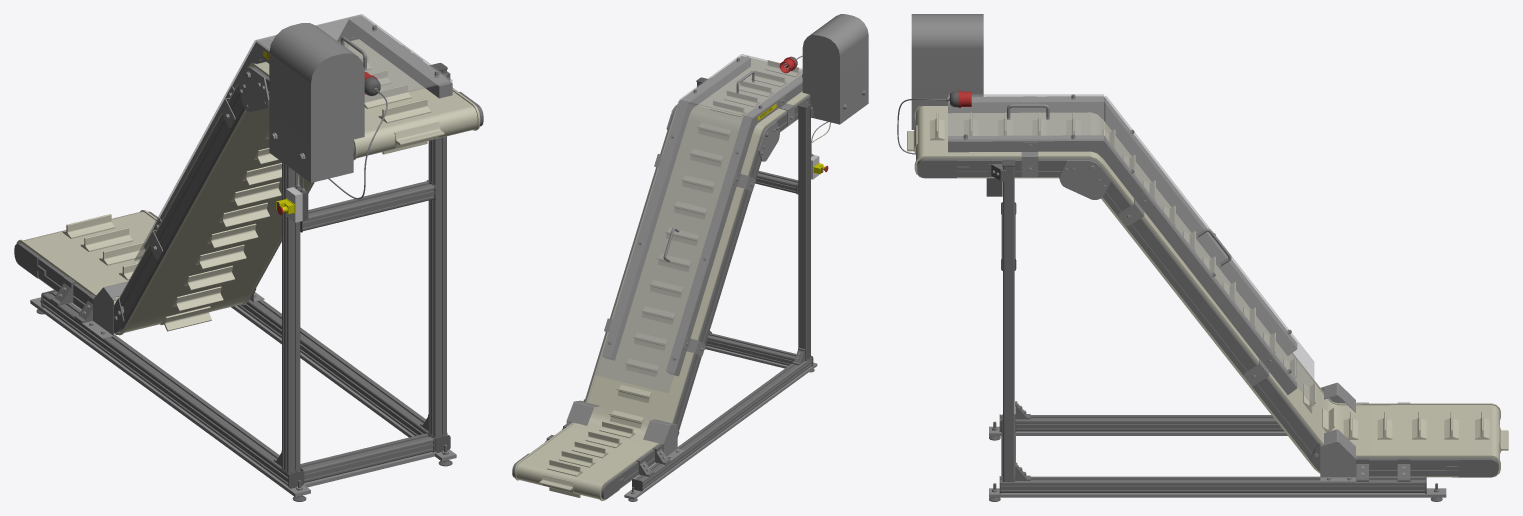
The model's file is Conveyer_Add_Part_Fbx.fbx.
The picture shows the model from 3 angles, left to right: view 1: azimuth 30°, elevation 25°; view 2: azimuth 150°, elevation 25°; view 3: azimuth 270°, elevation 25°; orthographic projection. The views are drawn at different scales.
Visible parts, largest first — view 1: Conveyer_6, Conveyer_4, Conveyer_1, Conveyer_3, Conveyer_2; view 2: Conveyer_4, Conveyer_6, Conveyer_2, Conveyer_3, Conveyer_1; view 3: Conveyer_6, Conveyer_4, Conveyer_3, Conveyer_2, Conveyer_1.
Part boxes in pixels (x1,y1,x2,y2): Conveyer_6: (14,23,483,501); Conveyer_4: (16,39,480,335); Conveyer_1: (256,14,452,102); Conveyer_3: (144,16,452,249); Conveyer_2: (134,14,360,260); Conveyer_4: (514,56,809,500); Conveyer_6: (512,14,868,501); Conveyer_2: (595,101,751,392); Conveyer_3: (602,56,802,376); Conveyer_1: (679,54,802,118); Conveyer_6: (911,14,1498,501); Conveyer_4: (907,106,1508,477); Conveyer_3: (948,94,1297,394); Conveyer_2: (1105,96,1314,406); Conveyer_1: (948,94,1103,140).
Bounding box in the file's own units: 73.15 × 173 × 231.
